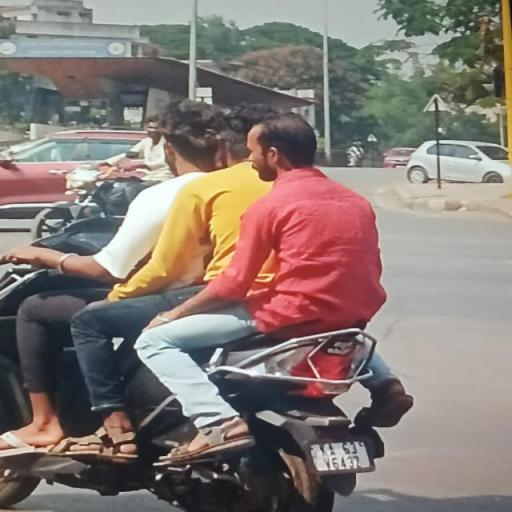tripple riding: (0, 94, 395, 325)
